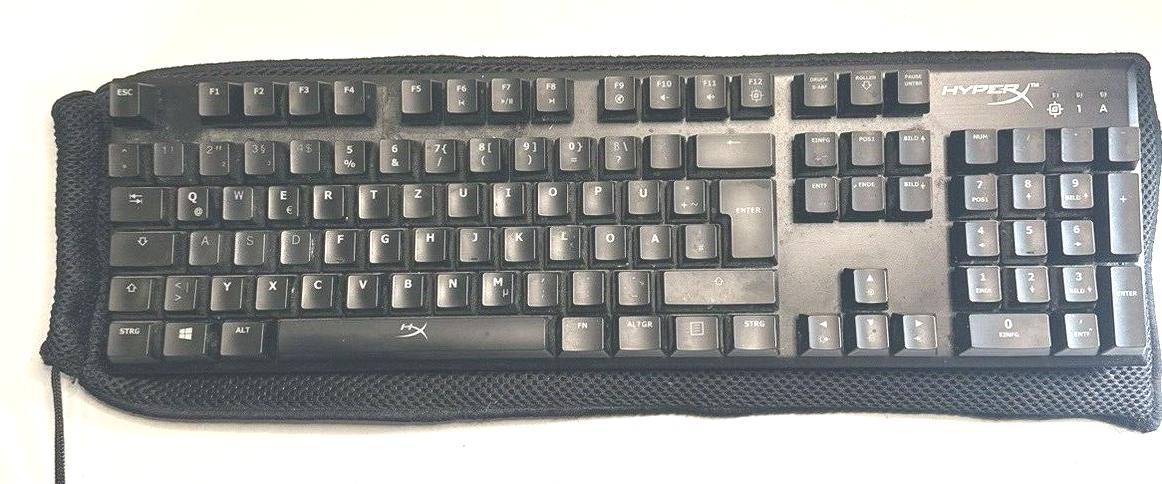0: (556, 132, 591, 169)
1: (151, 137, 184, 174)
2: (197, 137, 231, 174)
3: (241, 136, 275, 174)
4: (288, 135, 320, 172)
5: (331, 135, 365, 173)
6: (376, 134, 410, 171)
7: (422, 134, 456, 171)
8: (466, 133, 500, 171)
9: (510, 132, 546, 170)
a: (187, 227, 219, 264)
accent: (646, 130, 679, 167)
ae: (636, 221, 670, 258)
alt-left: (217, 317, 263, 353)
altgr-right: (615, 312, 660, 348)
b: (388, 269, 423, 306)
c: (299, 270, 333, 307)
caret: (105, 140, 138, 173)
comma: (524, 268, 557, 305)
d: (278, 226, 310, 262)
del: (693, 128, 771, 166)
e: (266, 181, 299, 218)
enter: (715, 173, 773, 257)
f: (323, 225, 356, 262)
g: (367, 225, 401, 261)
h: (412, 223, 446, 261)
hash: (681, 220, 715, 257)
i: (489, 179, 524, 215)
j: (457, 223, 489, 260)
k: (501, 223, 536, 260)
keyboard: (77, 52, 1162, 394)
l: (547, 221, 580, 259)
less: (161, 272, 195, 309)
m: (479, 268, 515, 305)
minus: (615, 267, 650, 304)
n: (433, 268, 469, 306)
o: (534, 178, 568, 214)
oe: (591, 221, 626, 259)
p: (580, 177, 613, 214)
plus: (670, 175, 704, 213)
point: (569, 267, 604, 303)
q: (173, 182, 209, 219)
r: (310, 181, 344, 217)
s: (232, 227, 265, 263)
shift-left: (105, 273, 151, 309)
shift-lock: (106, 228, 174, 265)
shift-right: (660, 265, 775, 303)
space: (271, 311, 548, 357)
ss: (601, 132, 636, 169)
strg-left: (104, 317, 150, 357)
strg-right: (728, 310, 776, 348)
t: (356, 181, 388, 217)
tab: (107, 183, 162, 220)
u: (445, 179, 478, 216)
ue: (624, 176, 659, 214)
v: (344, 270, 379, 306)
w: (220, 182, 253, 219)
x: (253, 271, 288, 308)
y: (208, 272, 242, 309)
z: (401, 180, 432, 216)
